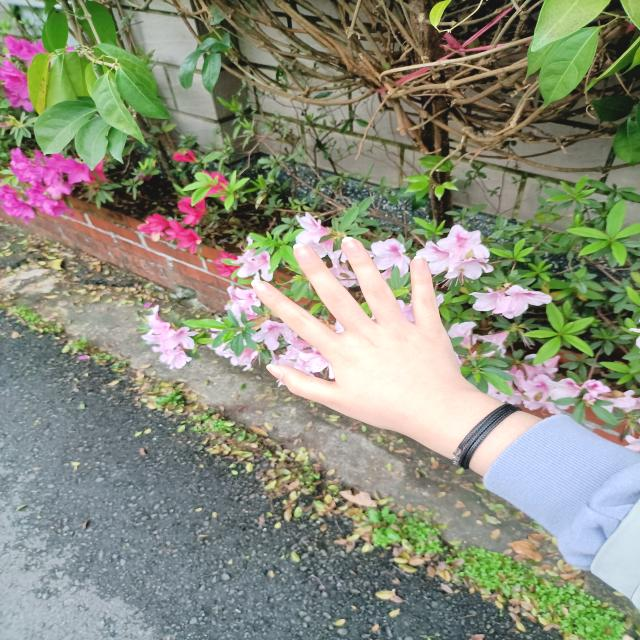no_glove: (237, 222, 468, 468)
